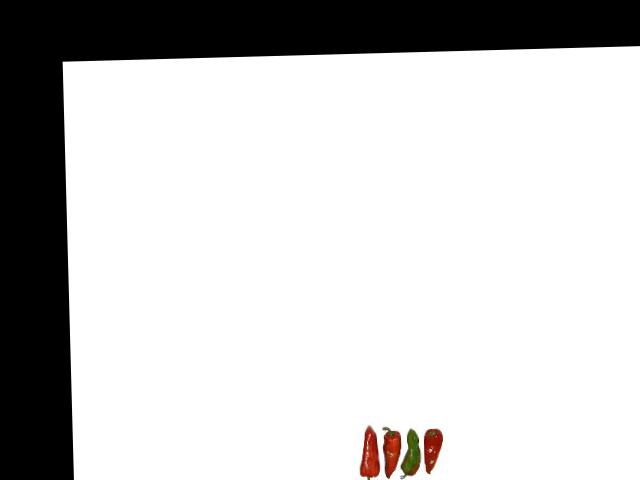bell_pepper: (421, 426, 449, 478)
